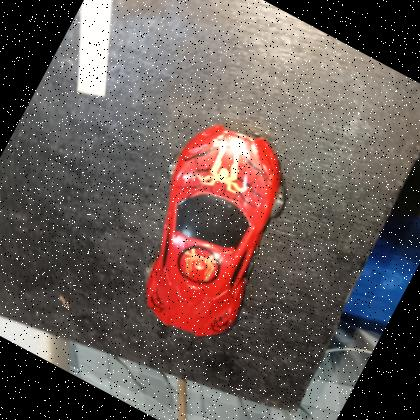Car: (145, 123, 283, 337)
